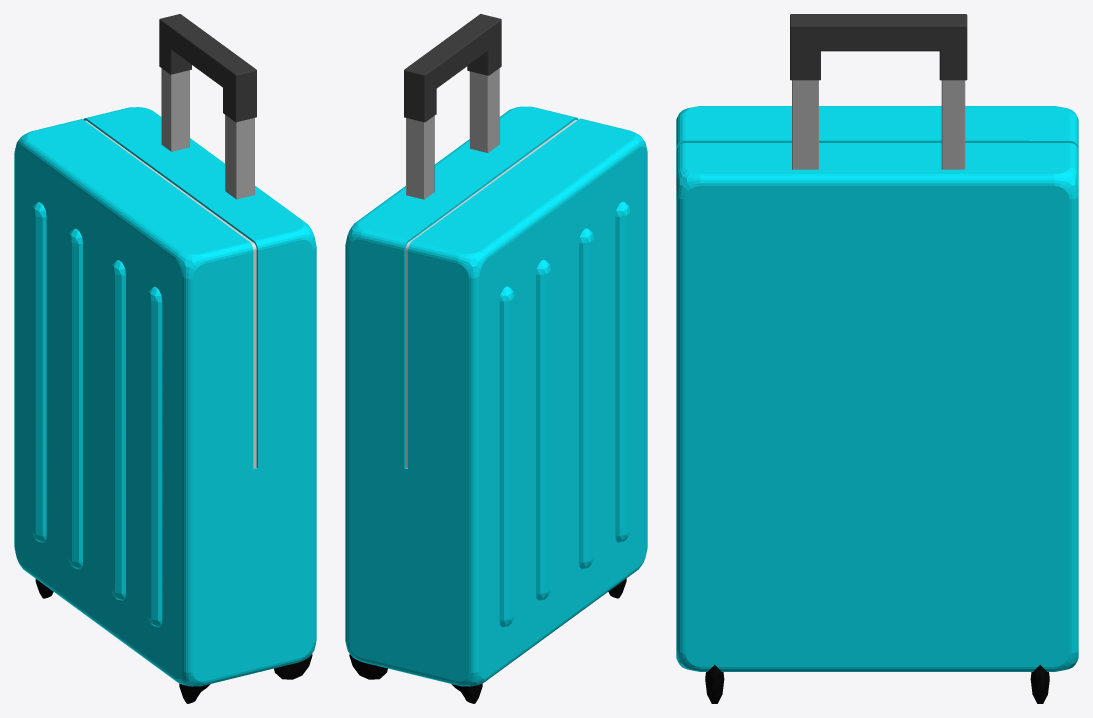
Rendered from suitcase.fbx.
The picture shows the model from 3 angles, left to right: view 1: azimuth 30°, elevation 25°; view 2: azimuth 150°, elevation 25°; view 3: azimuth 270°, elevation 25°; orthographic projection. The views are drawn at different scales.
Parts seen in each view (by area): view 1: 立方体.001; view 2: 立方体.001; view 3: 立方体.001.
Boxes of the visible parts, x1,y1,x2,y2 form: 立方体.001: (14, 14, 316, 703); 立方体.001: (345, 14, 647, 703); 立方体.001: (676, 14, 1078, 703).
Size of the model in its own units: 134 by 503 by 271.
